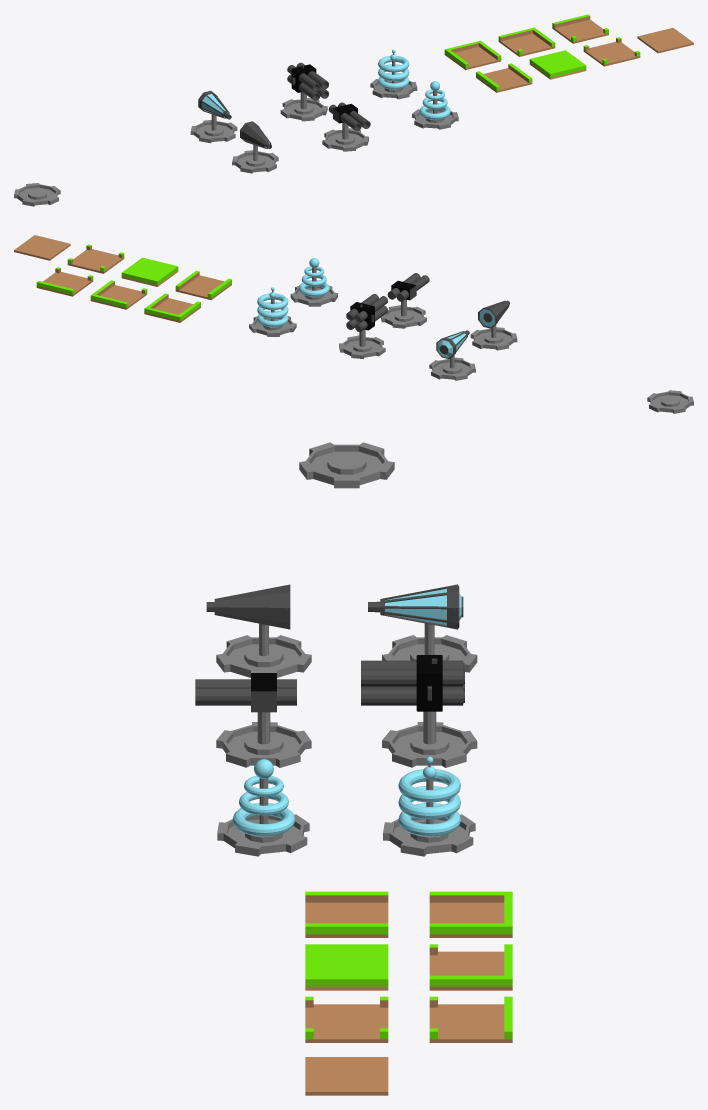
File: TowerDefense_Assets.fbx
The picture shows the model from 3 angles, top to bottom: view 1: azimuth 30°, elevation 25°; view 2: azimuth 150°, elevation 25°; view 3: azimuth 270°, elevation 25°; orthographic projection. The views are drawn at different scales.
Parts seen in each view (by area): view 1: Turret2.Lv2.Top, GroundTile.Top.1, Turrent3.Lv2.Top, Turret.Lv2.Bottom, Turret1.Lv2.Bottom, Turret2.Bottom, GroundTile.Base, Turret1.Bottom, Socle, GroundTile.Bottom.6, GroundTile.Bottom.5, Turrent3.Top (+11 smaller); view 2: Turret2.Lv2.Top, GroundTile.Top.1, Turrent3.Lv2.Top, Turret.Lv2.Bottom, GroundTile.Base, Turret2.Bottom, Turret1.Bottom, Turret1.Lv2.Bottom, Socle, GroundTile.Bottom.6, Turrent3.Top, Turret2.Top (+12 smaller); view 3: Turret2.Lv2.Top, GroundTile.Top.1, Turrent3.Lv2.Top, Turret.Lv2.Bottom, Turret2.Bottom, Socle, GroundTile.Base, Turret1.Bottom, Turret2.Top, GroundTile.Bottom.6, GroundTile.Bottom.5, Turret1.Lv2.Top (+11 smaller).
Part boxes in pixels (x1,y1,x2,y2): Turret2.Lv2.Top: [287, 62, 329, 100]; GroundTile.Top.1: [529, 50, 586, 77]; Turrent3.Lv2.Top: [378, 49, 409, 89]; Turret.Lv2.Bottom: [280, 92, 327, 121]; Turret1.Lv2.Bottom: [190, 114, 237, 143]; Turret2.Bottom: [322, 122, 368, 151]; GroundTile.Base: [637, 28, 693, 53]; Turret1.Bottom: [232, 145, 278, 173]; Socle: [14, 183, 60, 206]; GroundTile.Bottom.6: [583, 41, 640, 66]; GroundTile.Bottom.5: [552, 19, 608, 43]; Turrent3.Top: [419, 81, 450, 119]; Turret2.Lv2.Top: [346, 294, 387, 331]; GroundTile.Top.1: [121, 257, 178, 284]; Turrent3.Lv2.Top: [257, 287, 288, 326]; Turret.Lv2.Bottom: [339, 329, 385, 358]; GroundTile.Base: [14, 235, 70, 260]; Turret2.Bottom: [380, 299, 426, 328]; Turret1.Bottom: [470, 324, 517, 350]; Turret1.Lv2.Bottom: [429, 355, 475, 380]; Socle: [647, 390, 693, 413]; GroundTile.Bottom.6: [67, 249, 124, 273]; Turrent3.Top: [298, 258, 329, 296]; Turret2.Top: [387, 273, 429, 301]; Turret2.Lv2.Top: [361, 655, 464, 711]; GroundTile.Top.1: [305, 944, 388, 986]; Turrent3.Lv2.Top: [398, 756, 460, 836]; Turret.Lv2.Bottom: [382, 711, 477, 767]; Turret2.Bottom: [216, 712, 311, 767]; Socle: [299, 442, 394, 488]; GroundTile.Base: [305, 1057, 388, 1095]; Turret1.Bottom: [216, 623, 311, 677]; Turret2.Top: [195, 673, 296, 712]; GroundTile.Bottom.6: [305, 1004, 388, 1042]; GroundTile.Bottom.5: [429, 1004, 512, 1042]; Turret1.Lv2.Top: [368, 584, 463, 629].
Size of the model in its own units: 3708 by 240 by 766.
